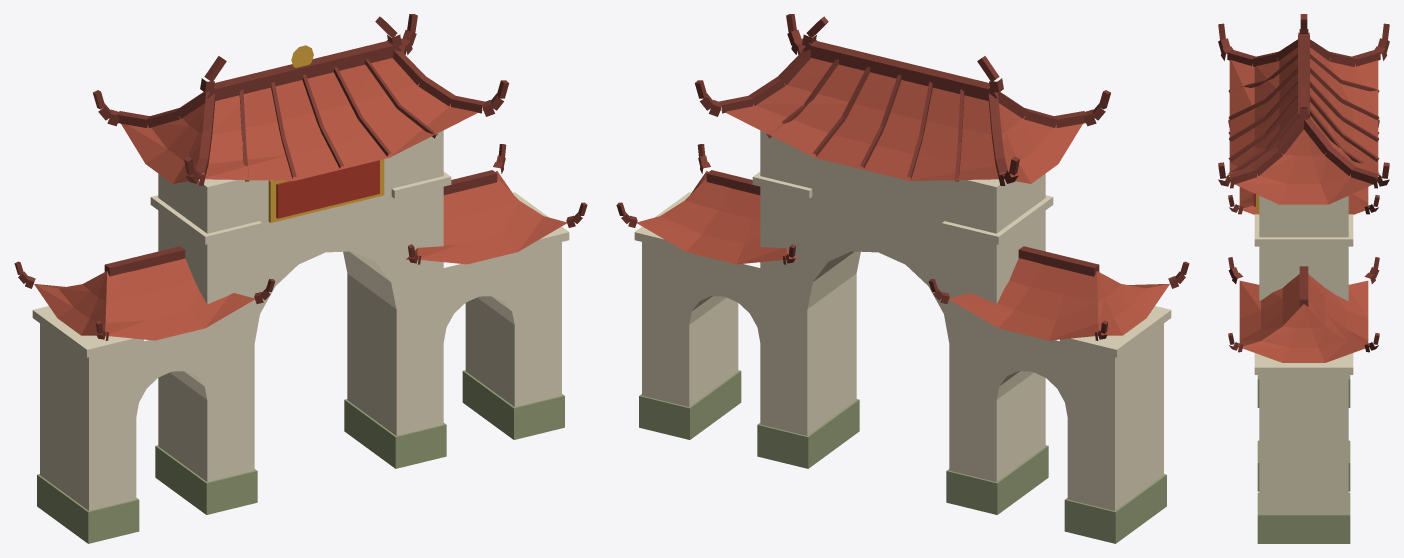
Rendered from viet_gate_tam_quan.glb.
3 views of the same model, side by side, from view 1: azimuth 30°, elevation 25°; view 2: azimuth 150°, elevation 25°; view 3: azimuth 270°, elevation 25° (orthographic). The views are drawn at different scales.
Parts seen in each view (by area): view 1: viet_gate_tam_quan; view 2: viet_gate_tam_quan; view 3: viet_gate_tam_quan.
Boxes of the visible parts, left/top/right/bottom form: viet_gate_tam_quan: left=14, top=14, right=587, bottom=543; viet_gate_tam_quan: left=616, top=14, right=1189, bottom=543; viet_gate_tam_quan: left=1218, top=14, right=1389, bottom=543.
Size of the model in its own units: 1 by 0.8388 by 0.3358.
